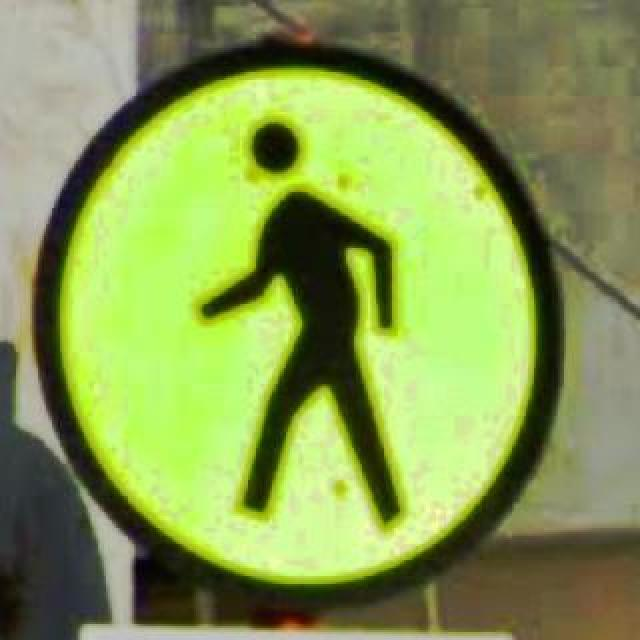pedestrian crossing: (28, 32, 564, 604)
